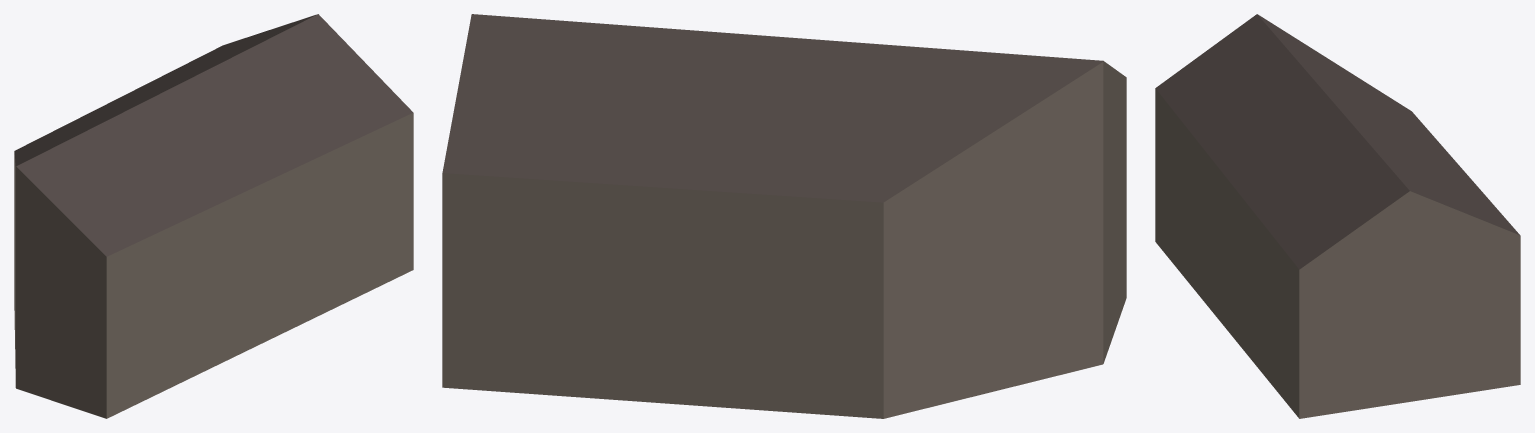
3 renders of one model, left to right at view 1: azimuth 30°, elevation 25°; view 2: azimuth 150°, elevation 25°; view 3: azimuth 270°, elevation 25°, orthographic. The views are drawn at different scales.
Parts seen in each view (by area): view 1: HP-w1512911268; view 2: HP-w1512911268; view 3: HP-w1512911268.
Part boxes in pixels (bbox=[...]): HP-w1512911268: bbox=[14, 14, 413, 418]; HP-w1512911268: bbox=[442, 14, 1126, 418]; HP-w1512911268: bbox=[1155, 14, 1520, 418].
Size of the model in its own units: 25.12 by 12.71 by 19.96.
